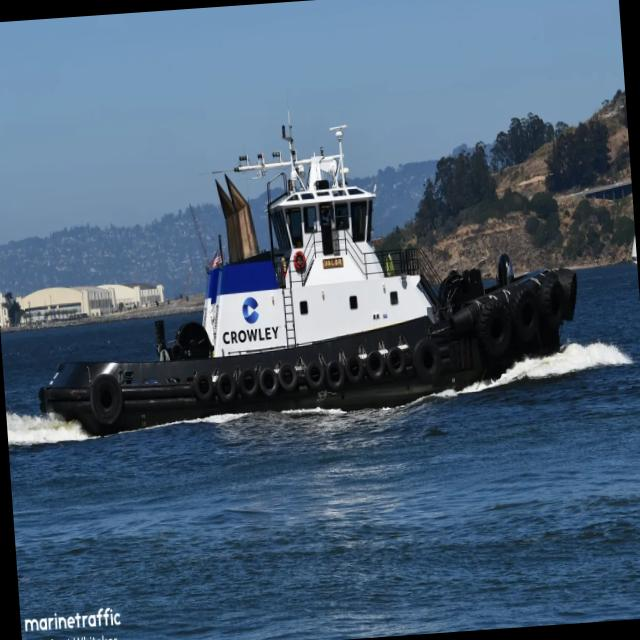Tug: (39, 125, 577, 434)
